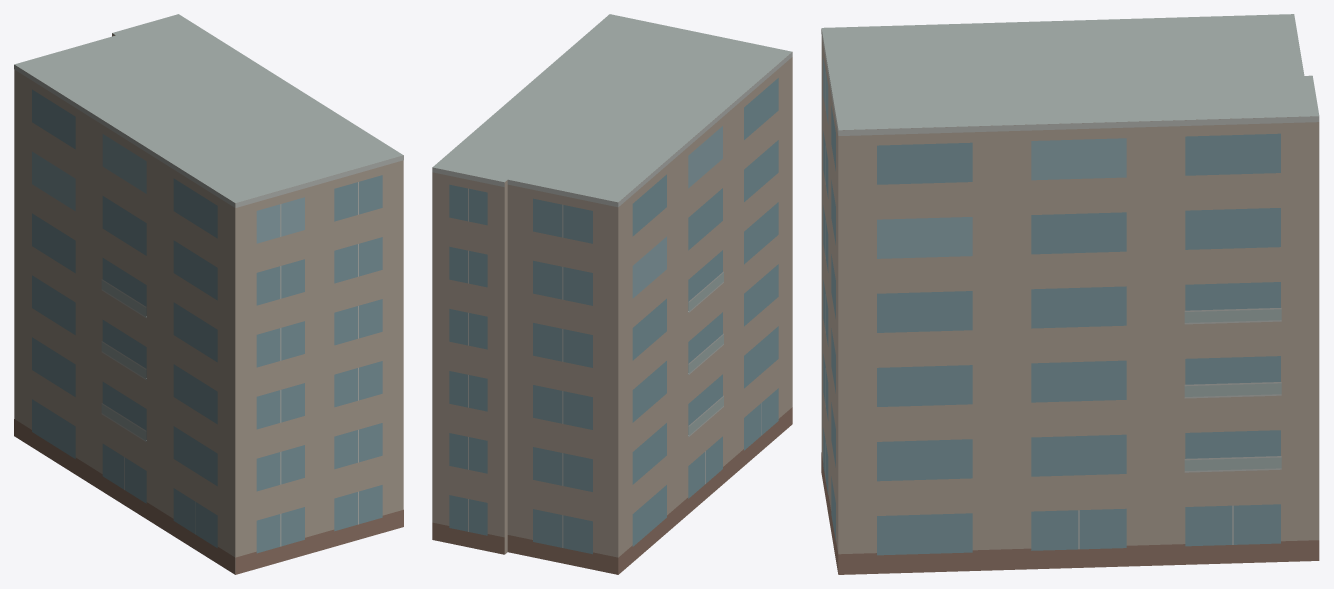
File: survey-upis-32649387.glb
3 views of the same model, side by side, from view 1: azimuth 30°, elevation 25°; view 2: azimuth 150°, elevation 25°; view 3: azimuth 270°, elevation 25° (orthographic). The views are drawn at different scales.
Parts seen in each view (by area): view 1: survey-upis-32649387.tmp; view 2: survey-upis-32649387.tmp; view 3: survey-upis-32649387.tmp.
Part boxes in pixels (<box>): survey-upis-32649387.tmp: <box>14,14,403,574</box>; survey-upis-32649387.tmp: <box>432,14,792,574</box>; survey-upis-32649387.tmp: <box>821,14,1319,574</box>.
Bounding box in the file's own units: 10.33 × 18.4 × 18.69.
